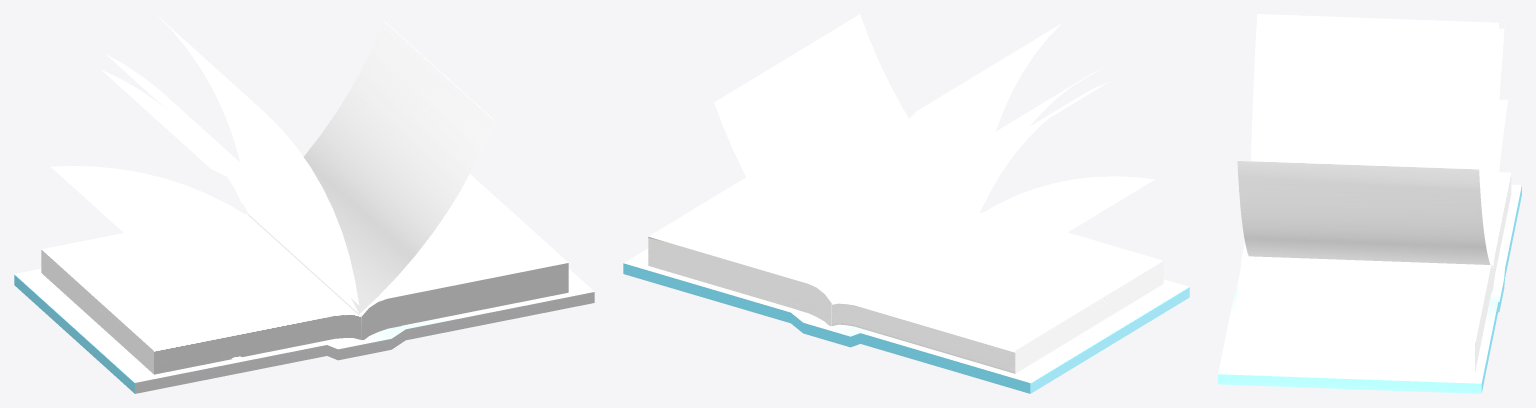
File: book.gltf
The picture shows the model from 3 angles, left to right: view 1: azimuth 30°, elevation 25°; view 2: azimuth 150°, elevation 25°; view 3: azimuth 270°, elevation 25°; orthographic projection. The views are drawn at different scales.
Parts seen in each view (by area): view 1: Plane.4, Cube.13, Cube.12, Plane.3, Cube.11, Plane, Plane.1, Plane.2; view 2: Plane.4, Cube.13, Cube.12, Plane, Cube.11, Plane.3, Plane.1, Plane.2; view 3: Plane, Cube.12, Plane.4, Cube.11, Cube.13, Plane.2, Plane.3.
Boxes of the visible parts, x1=… form: Plane.4: x1=248, y1=21, x2=494, y2=314; Cube.13: x1=41, y1=213, x2=361, y2=374; Cube.12: x1=359, y1=174, x2=568, y2=339; Plane.3: x1=51, y1=166, x2=355, y2=313; Cube.11: x1=14, y1=269, x2=594, y2=393; Plane: x1=158, y1=16, x2=359, y2=304; Plane.1: x1=101, y1=69, x2=358, y2=313; Plane.2: x1=106, y1=54, x2=351, y2=301; Plane.4: x1=714, y1=14, x2=980, y2=301; Cube.13: x1=832, y1=212, x2=1163, y2=373; Cube.12: x1=648, y1=177, x2=833, y2=326; Plane: x1=834, y1=24, x2=1060, y2=292; Cube.11: x1=623, y1=248, x2=1189, y2=393; Plane.3: x1=841, y1=176, x2=1154, y2=298; Plane.1: x1=834, y1=81, x2=1109, y2=300; Plane.2: x1=839, y1=67, x2=1103, y2=290; Plane: x1=1251, y1=14, x2=1498, y2=258; Cube.12: x1=1228, y1=256, x2=1492, y2=373; Plane.4: x1=1237, y1=160, x2=1490, y2=264; Cube.11: x1=1218, y1=184, x2=1521, y2=393; Cube.13: x1=1247, y1=172, x2=1511, y2=288; Plane.2: x1=1491, y1=28, x2=1504, y2=250; Plane.3: x1=1491, y1=99, x2=1508, y2=264.
Size of the model in its own units: 329 by 175 by 203.
